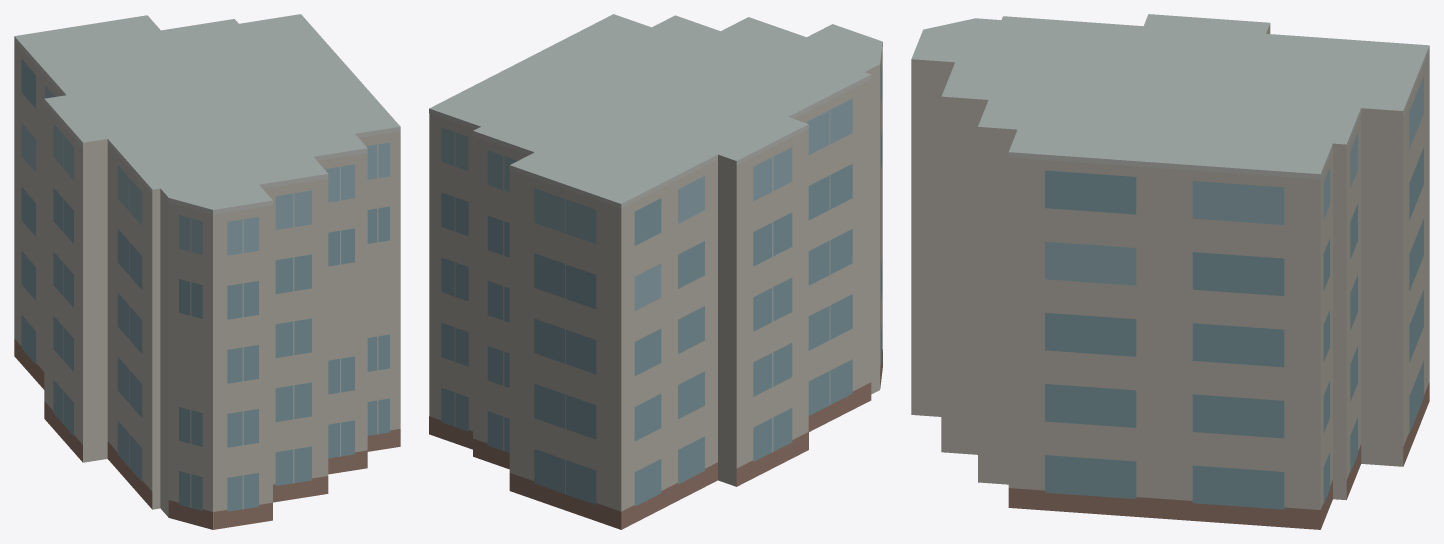
The model's file is survey-upis-32691490.glb.
3 views of the same model, side by side, from view 1: azimuth 30°, elevation 25°; view 2: azimuth 150°, elevation 25°; view 3: azimuth 270°, elevation 25° (orthographic). The views are drawn at different scales.
Visible parts, largest first — view 1: survey-upis-32691490.tmp; view 2: survey-upis-32691490.tmp; view 3: survey-upis-32691490.tmp.
Part boxes in pixels (x1,y1,x2,y2): survey-upis-32691490.tmp: (14, 14, 400, 529); survey-upis-32691490.tmp: (429, 14, 882, 529); survey-upis-32691490.tmp: (911, 14, 1429, 529).
Bounding box in the file's own units: 16.04 × 16.6 × 21.93.
